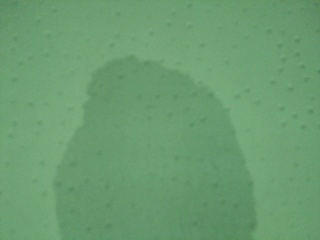Water_detected: (75, 81, 217, 240)
